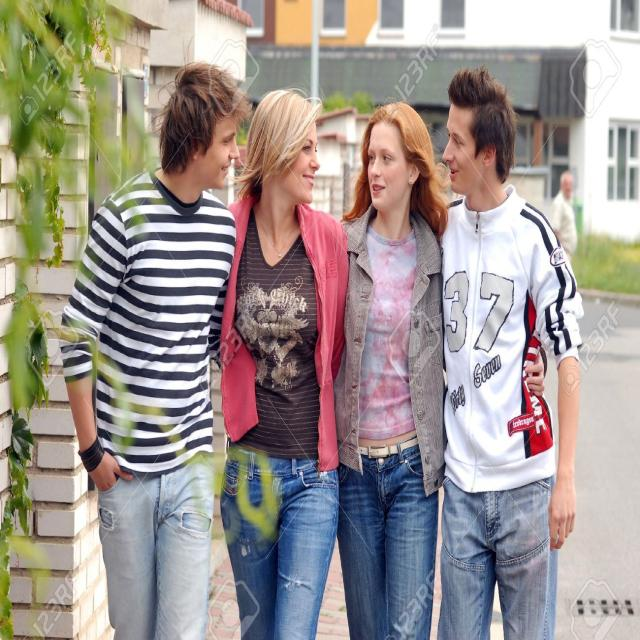body: (50, 55, 254, 639), (436, 64, 585, 640), (218, 84, 350, 640), (334, 98, 452, 640), (548, 169, 579, 268)
